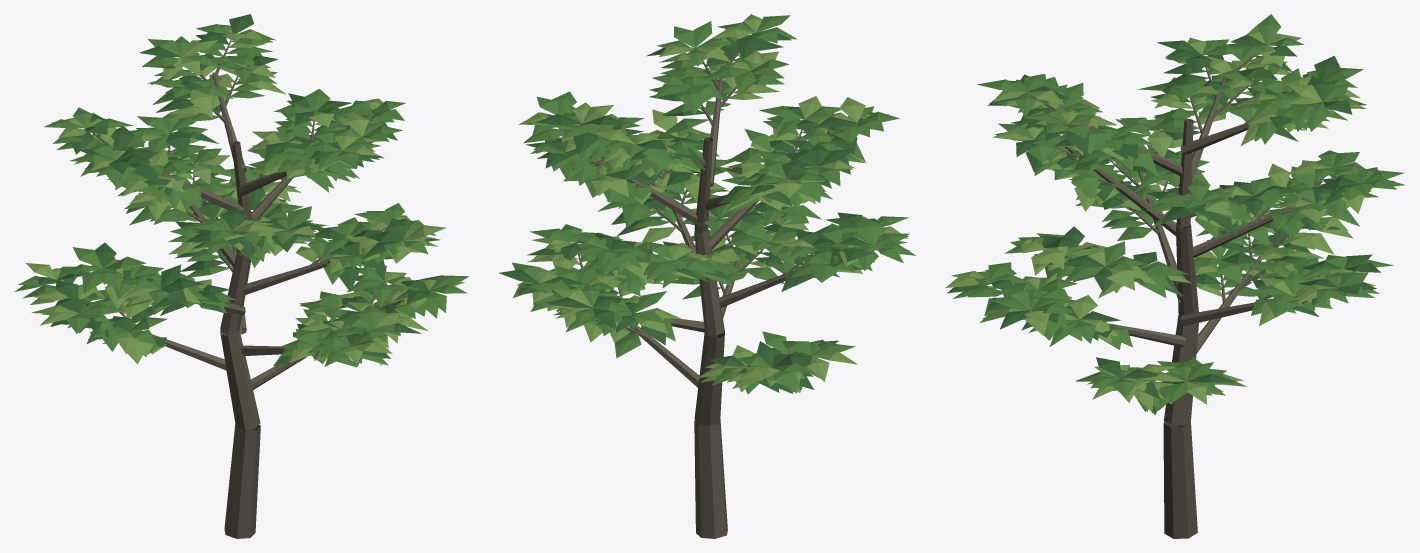
File: SM_BroadleafTree.fbx
3 views of the same model, side by side, from view 1: azimuth 30°, elevation 25°; view 2: azimuth 150°, elevation 25°; view 3: azimuth 270°, elevation 25° (orthographic). The views are drawn at different scales.
Visible parts, largest first — view 1: SM_BroadleafTree; view 2: SM_BroadleafTree; view 3: SM_BroadleafTree.
Boxes of the visible parts, x1,y1,x2,y2 form: SM_BroadleafTree: [14, 14, 469, 538]; SM_BroadleafTree: [499, 14, 915, 538]; SM_BroadleafTree: [945, 14, 1405, 538].
Bounding box in the file's own units: 608 × 666 × 589.
